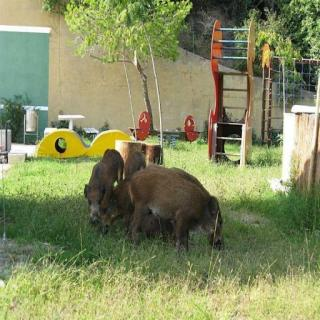Pig: (118, 163, 229, 261), (71, 144, 124, 235)
